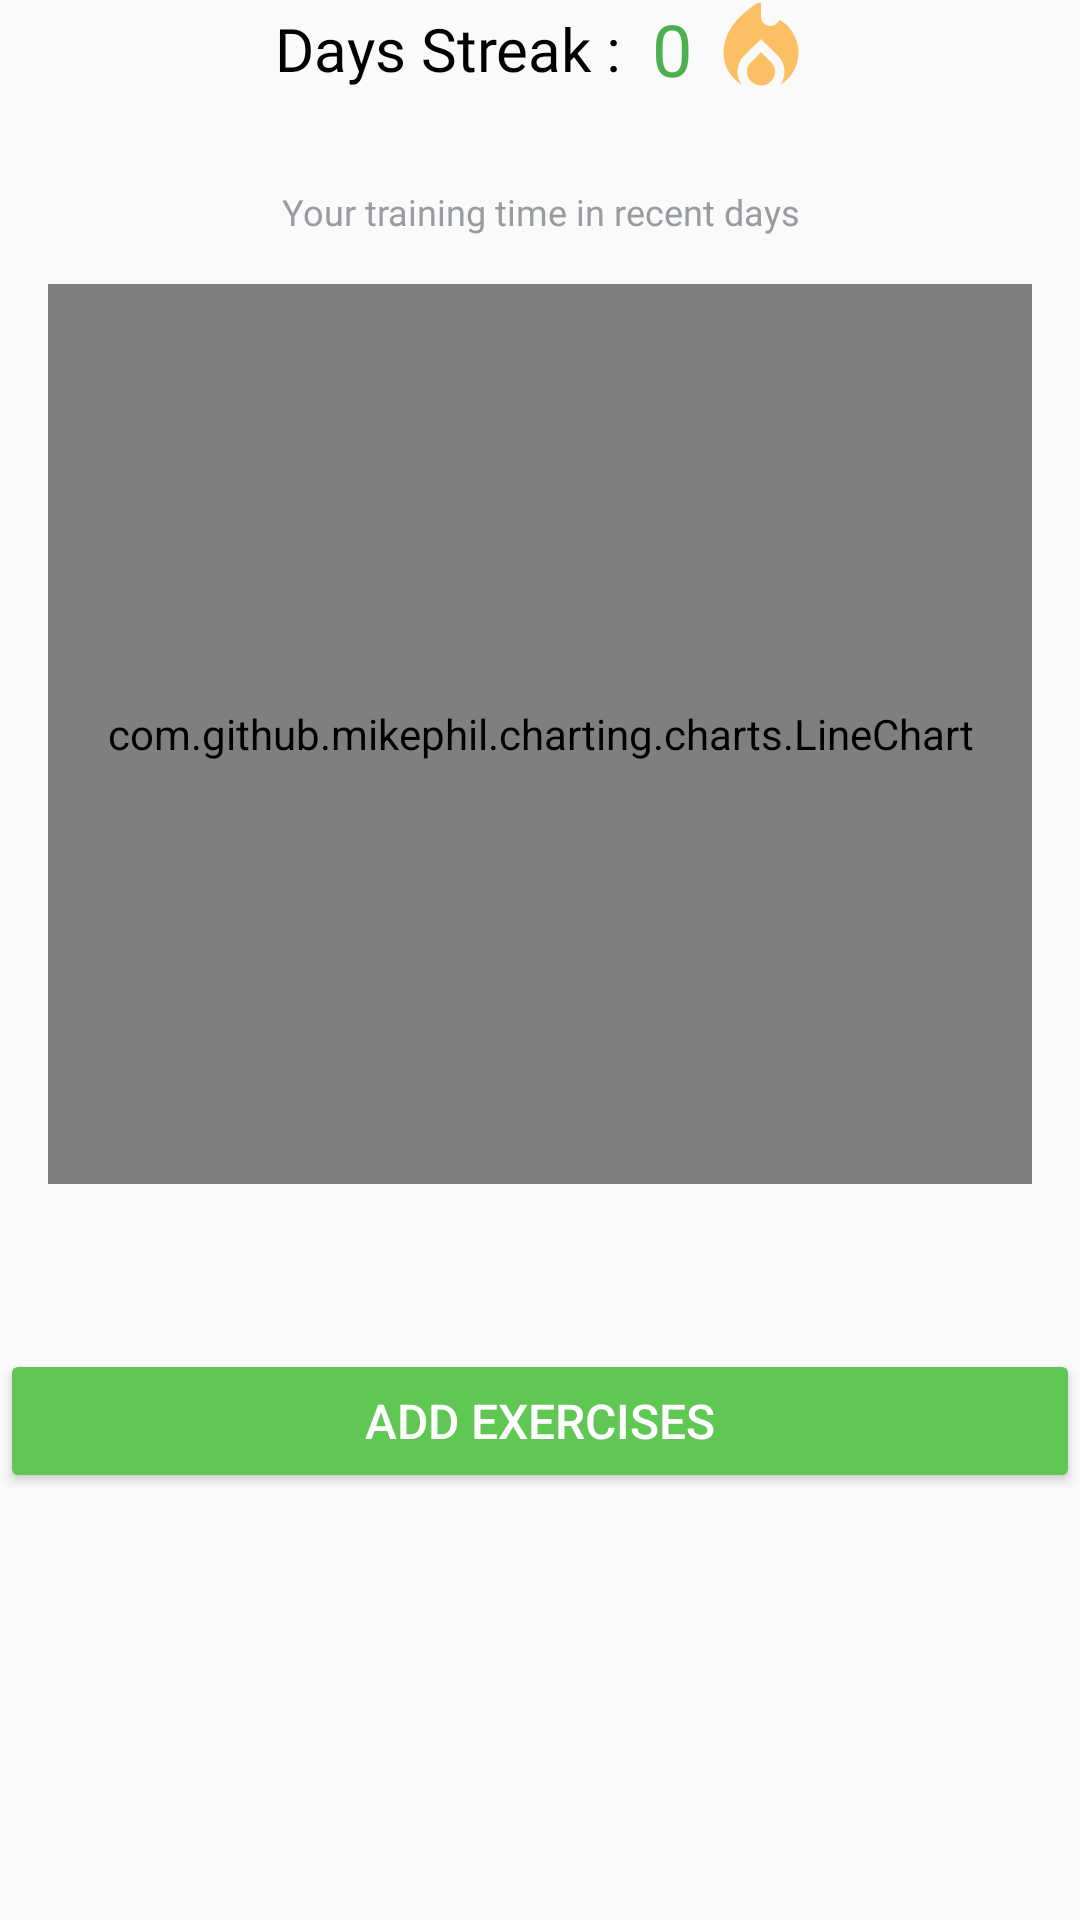

Icons on this 1080 × 1920 Android screen, each with its box as box(x1, y1, x2, y2):
fire: box(723, 3, 799, 86)
